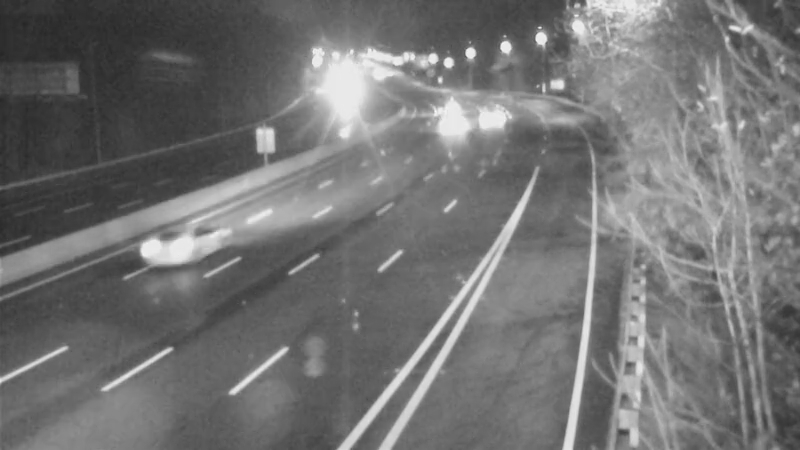vehicle: (127, 206, 207, 286), (418, 84, 468, 134), (464, 92, 514, 142), (425, 92, 475, 142)
